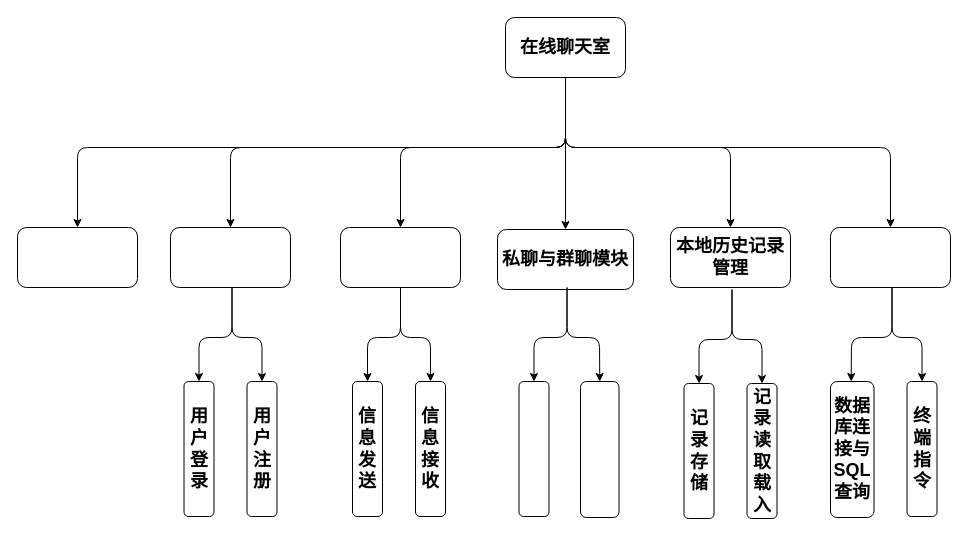
This 968x536 diagram has some shape labels left out. Each missing label, with the box of its shape:
信息处理: (340, 226, 460, 288)
在线客户端管理器: (16, 226, 138, 288)
客户端UI处理: (518, 380, 549, 516)
服务端用户与群组处理: (580, 380, 619, 518)
服务端终端管理器: (830, 226, 950, 288)
用户身份认证: (170, 226, 290, 288)
